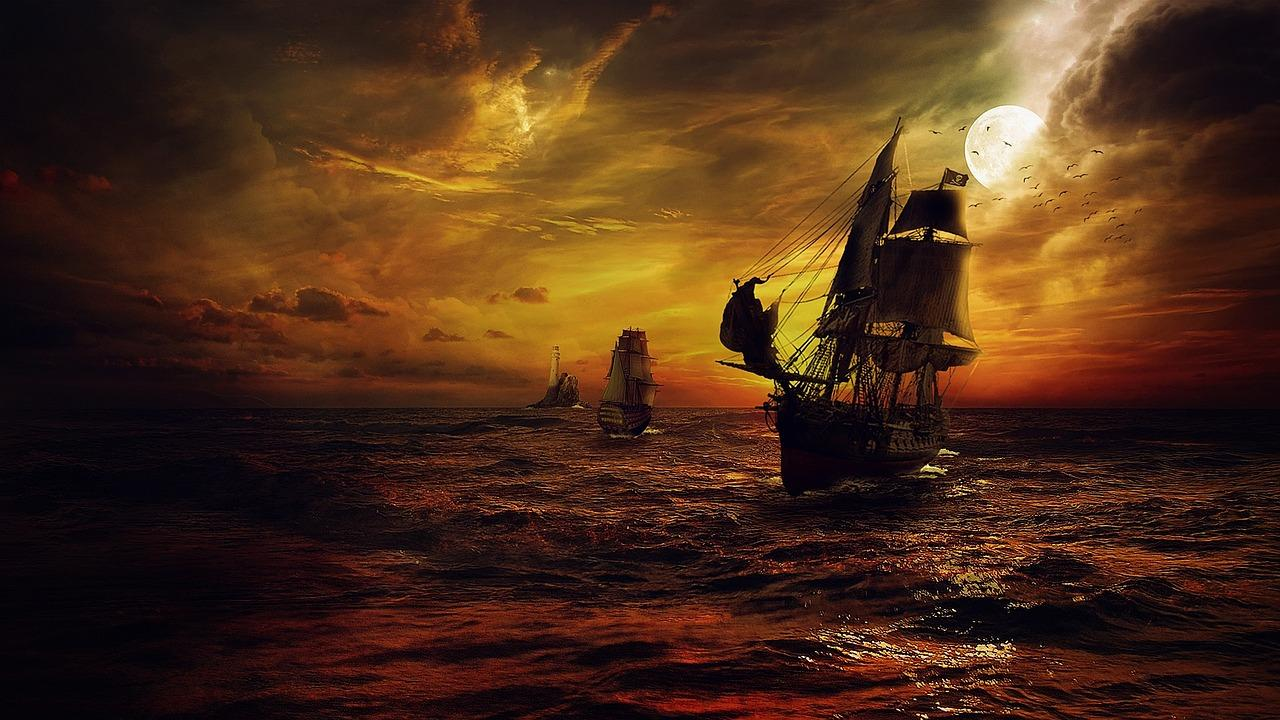Ship: (724, 126, 981, 494), (599, 331, 659, 436)
